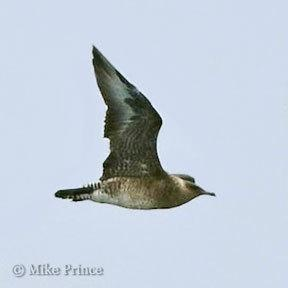bird: (51, 44, 219, 210)
